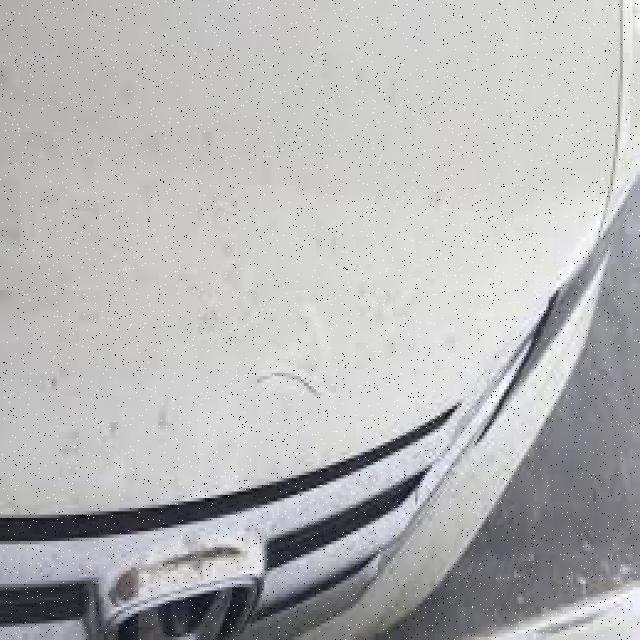bonnet-dent: (0, 13, 574, 588)
